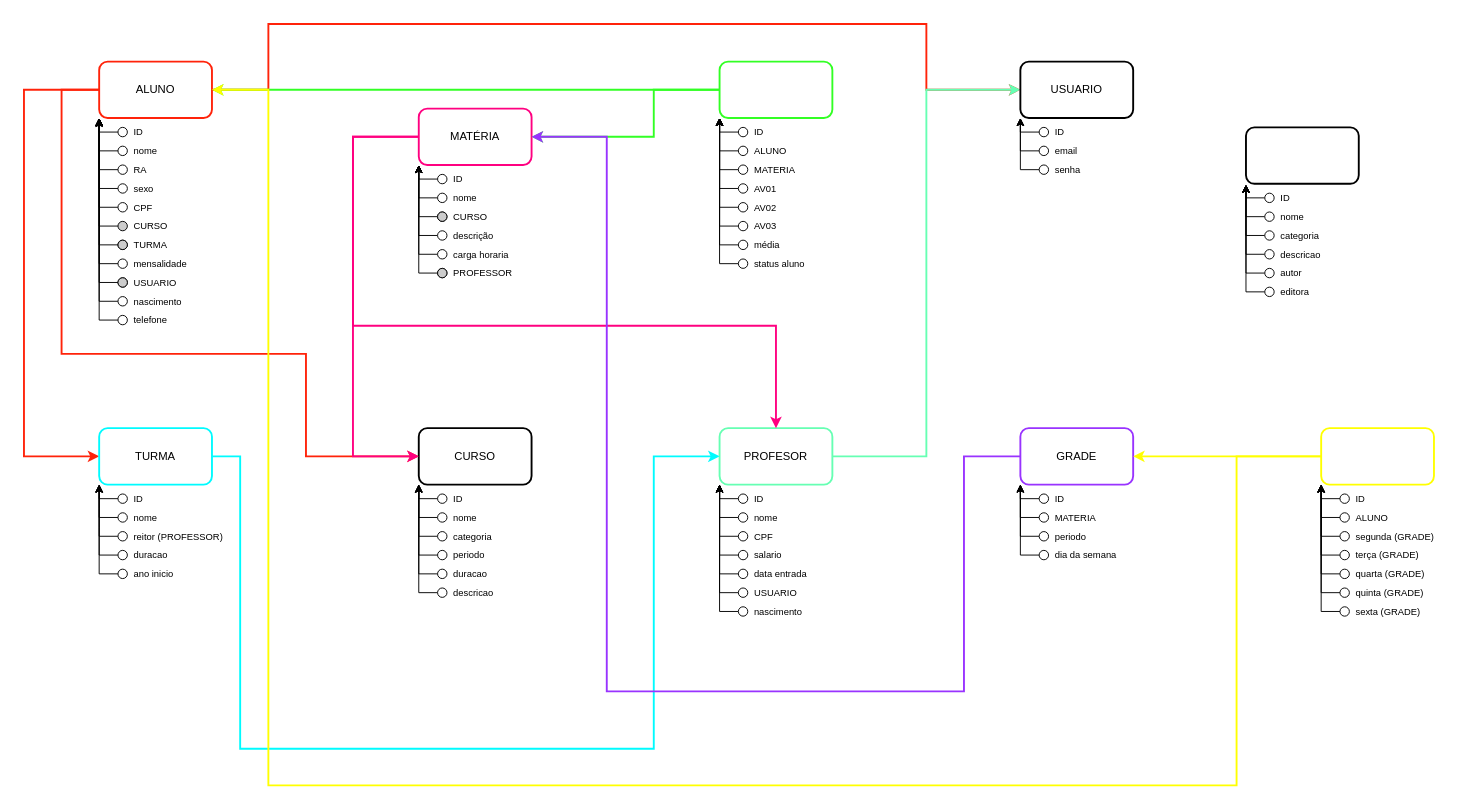
Some shapes in this 1473 by 809 pixel diagram are drawn without their labels. Each missing label, with the centre of its shape:
"AGENDA" belongs at point 1377,456.
"LIVRO" belongs at point 1302,155.
"NOTAS" belongs at point 775,89.
